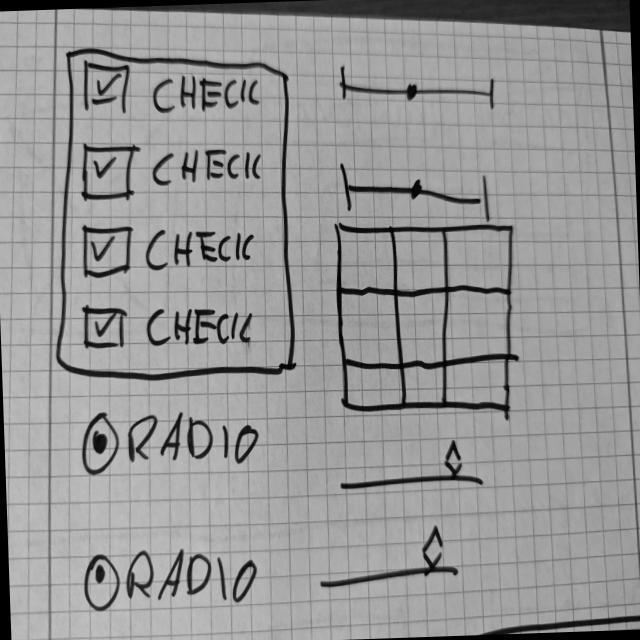checkbox: (81, 135, 267, 204), (82, 218, 259, 285), (83, 57, 265, 119), (82, 298, 258, 356)
container: (44, 38, 300, 388)
number-input: (316, 522, 462, 592), (338, 437, 487, 496)
radio: (80, 412, 124, 480), (82, 554, 124, 615)
slider: (339, 158, 495, 227), (339, 57, 500, 116)
table: (331, 218, 523, 426)
